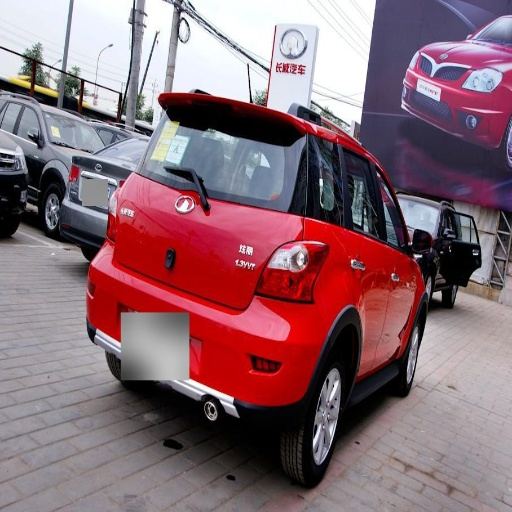back_bumper: (89, 241, 332, 406)
back_right_door: (350, 237, 388, 371)
back_right_light: (264, 238, 328, 300)
front_right_door: (377, 256, 414, 362)
trunk: (116, 175, 309, 310)
